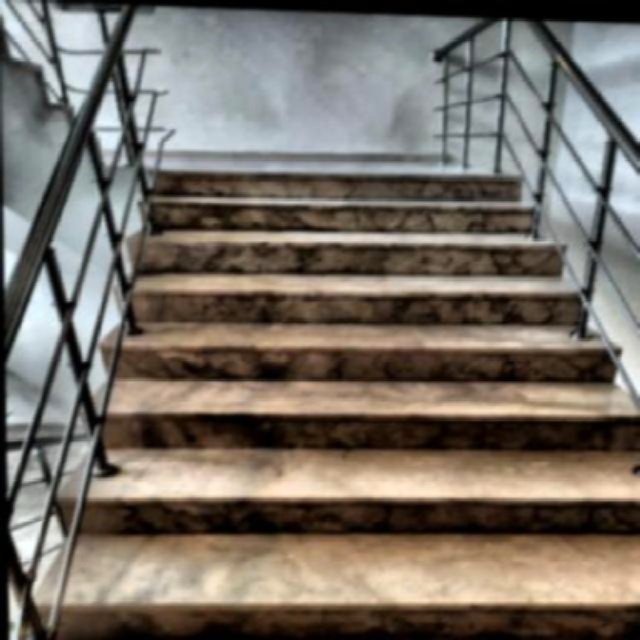stair: (16, 156, 638, 638)
